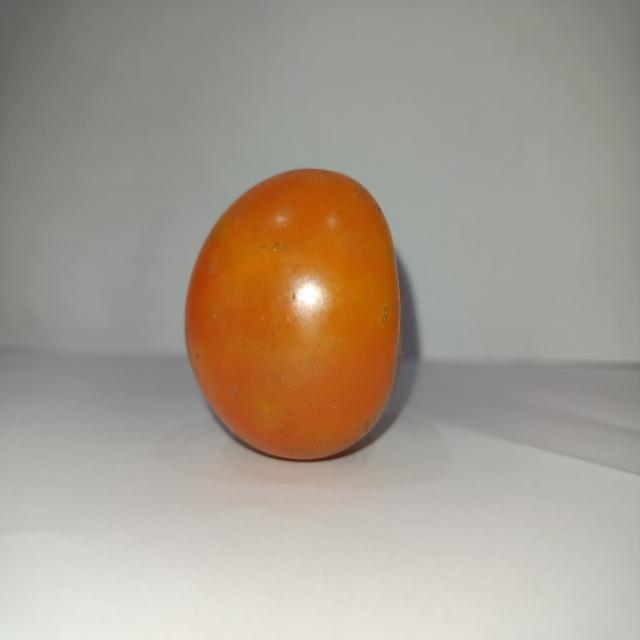Red: (183, 166, 402, 462)
